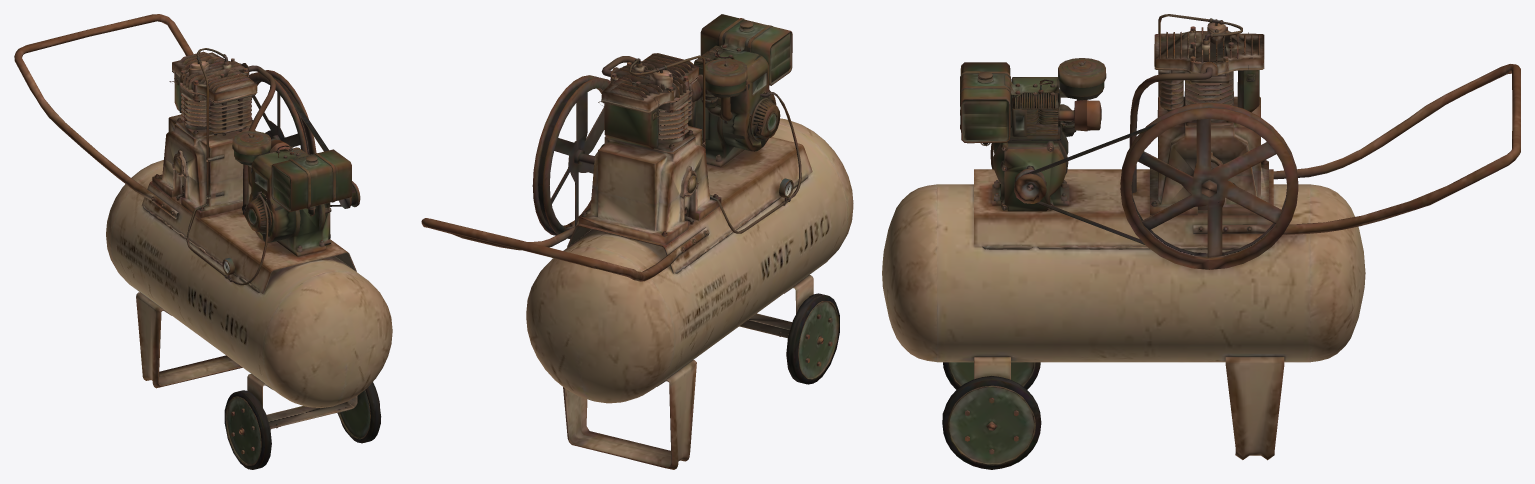
Rendered from compressor.glb.
3 views of the same model, side by side, from view 1: azimuth 30°, elevation 25°; view 2: azimuth 150°, elevation 25°; view 3: azimuth 270°, elevation 25° (orthographic). The views are drawn at different scales.
Parts seen in each view (by area): view 1: old_military_compressor; view 2: old_military_compressor; view 3: old_military_compressor.
Boxes of the visible parts, bbox=[...] form: old_military_compressor: bbox=[14, 14, 392, 469]; old_military_compressor: bbox=[421, 14, 853, 469]; old_military_compressor: bbox=[882, 14, 1520, 469].
Bounding box in the file's own units: 0.5983 × 1.18 × 1.67.
2 materials, 2 textured.
